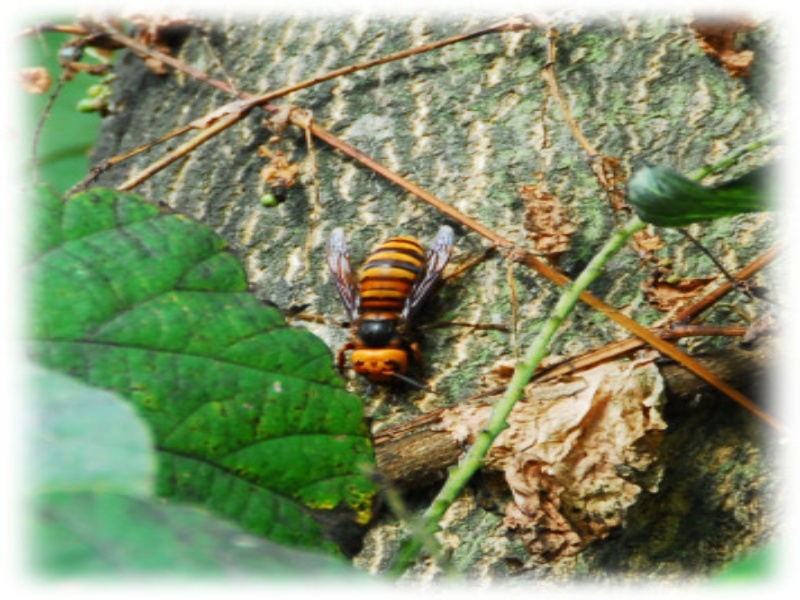asian_giant_hornet: (321, 216, 465, 388)
